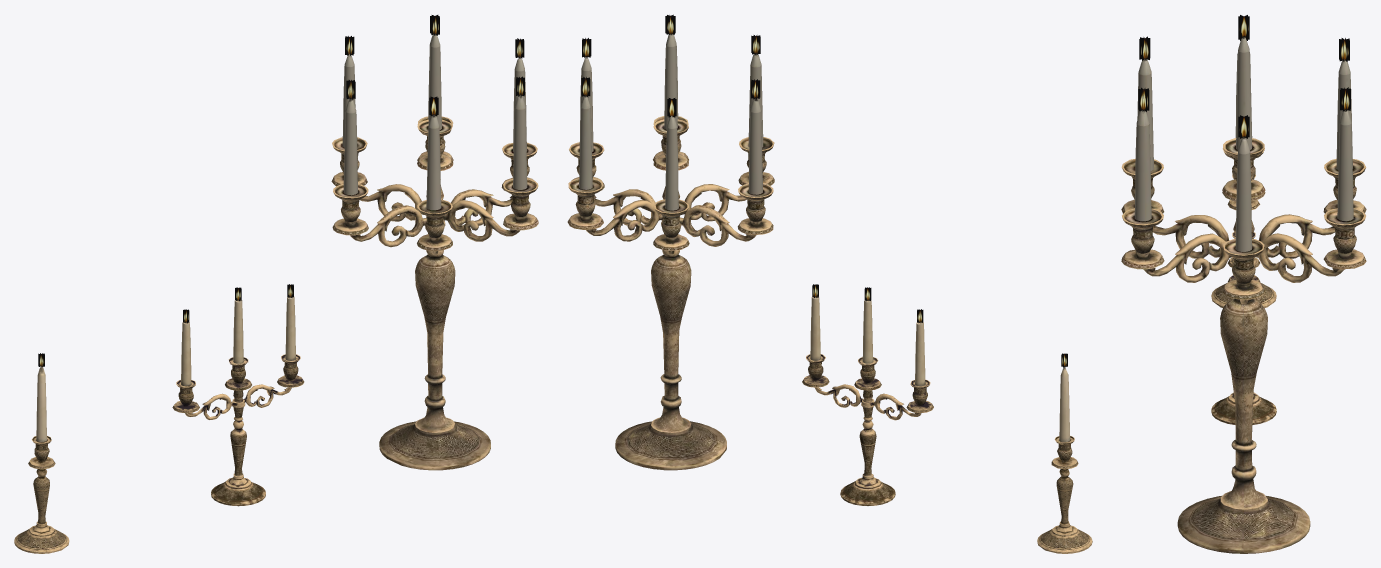
File: brass_candleholders.glb
3 views of the same model, side by side, from view 1: azimuth 30°, elevation 25°; view 2: azimuth 150°, elevation 25°; view 3: azimuth 270°, elevation 25° (orthographic). The views are drawn at different scales.
Parts seen in each view (by area): view 1: brass_candleholder_03, brass_candleholder_02, brass_candleholder_01; view 2: brass_candleholder_03, brass_candleholder_02, brass_candleholder_01; view 3: brass_candleholder_03, brass_candleholder_02, brass_candleholder_01.
Part boxes in pixels (<box>): brass_candleholder_03: <box>38,15,538,470</box>; brass_candleholder_02: <box>172,296,304,506</box>; brass_candleholder_01: <box>14,366,69,553</box>; brass_candleholder_03: <box>567,14,1067,470</box>; brass_candleholder_02: <box>802,296,933,505</box>; brass_candleholder_01: <box>1037,366,1092,553</box>; brass_candleholder_03: <box>1121,15,1366,553</box>; brass_candleholder_02: <box>1211,232,1276,424</box>; brass_candleholder_01: <box>1211,174,1276,307</box>.
Size of the model in its own units: 1.05 by 0.8353 by 0.3643.
Materials: 5 (5 with a texture image).
